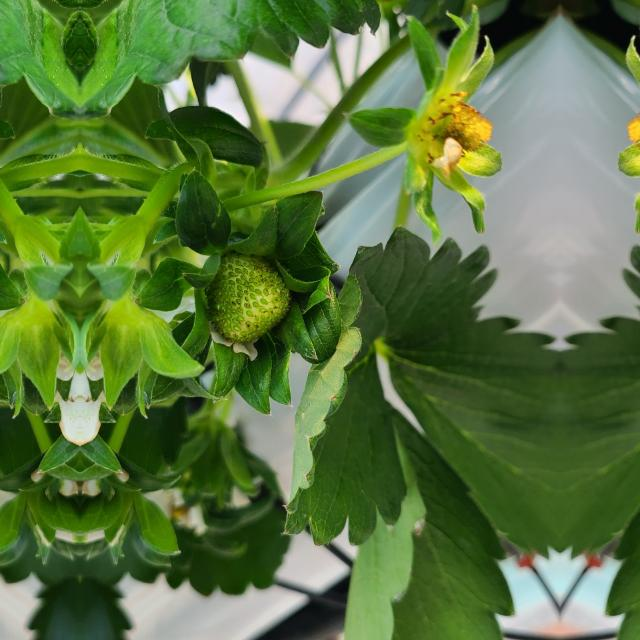Health_25: (208, 251, 288, 341), (430, 88, 498, 164), (622, 88, 640, 164)
